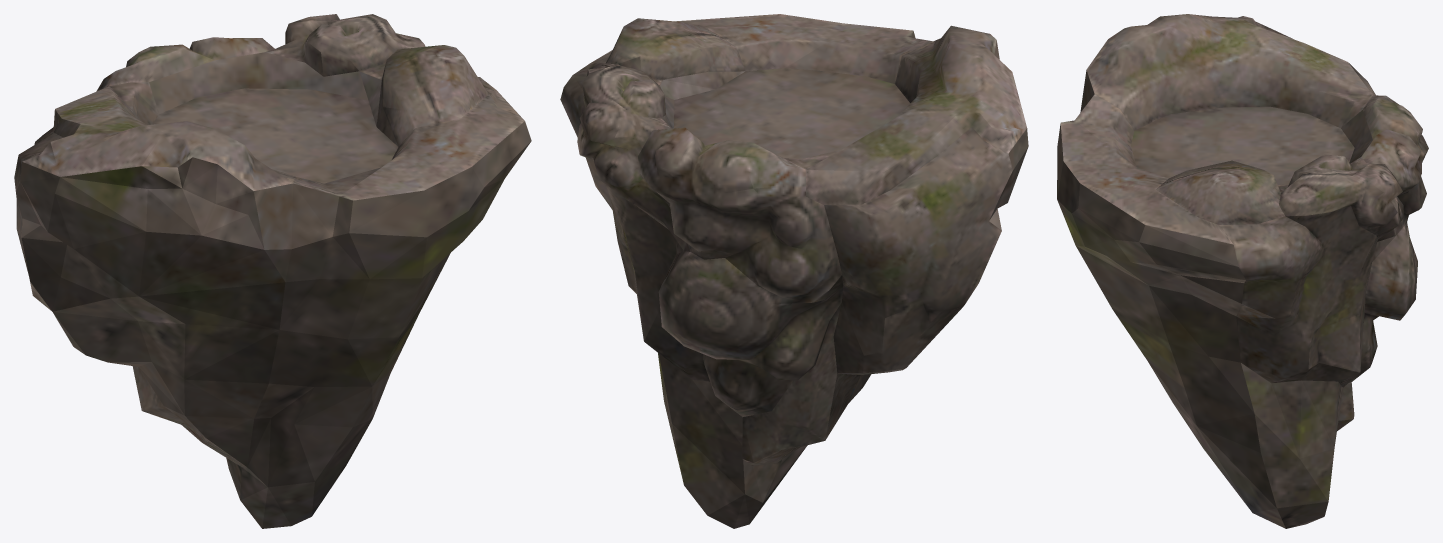
File: xinshoubujian1.FBX
The picture shows the model from 3 angles, left to right: view 1: azimuth 30°, elevation 25°; view 2: azimuth 150°, elevation 25°; view 3: azimuth 270°, elevation 25°; orthographic projection. The views are drawn at different scales.
Parts seen in each view (by area): view 1: Mesh_0043; view 2: Mesh_0043; view 3: Mesh_0043.
Part boxes in pixels (x1,y1,x2,y2): Mesh_0043: (14, 14, 531, 528); Mesh_0043: (560, 14, 1028, 528); Mesh_0043: (1057, 14, 1428, 528).
Size of the model in its own units: 14.57 by 14.59 by 11.4.
Materials: 1 (1 with a texture image).
